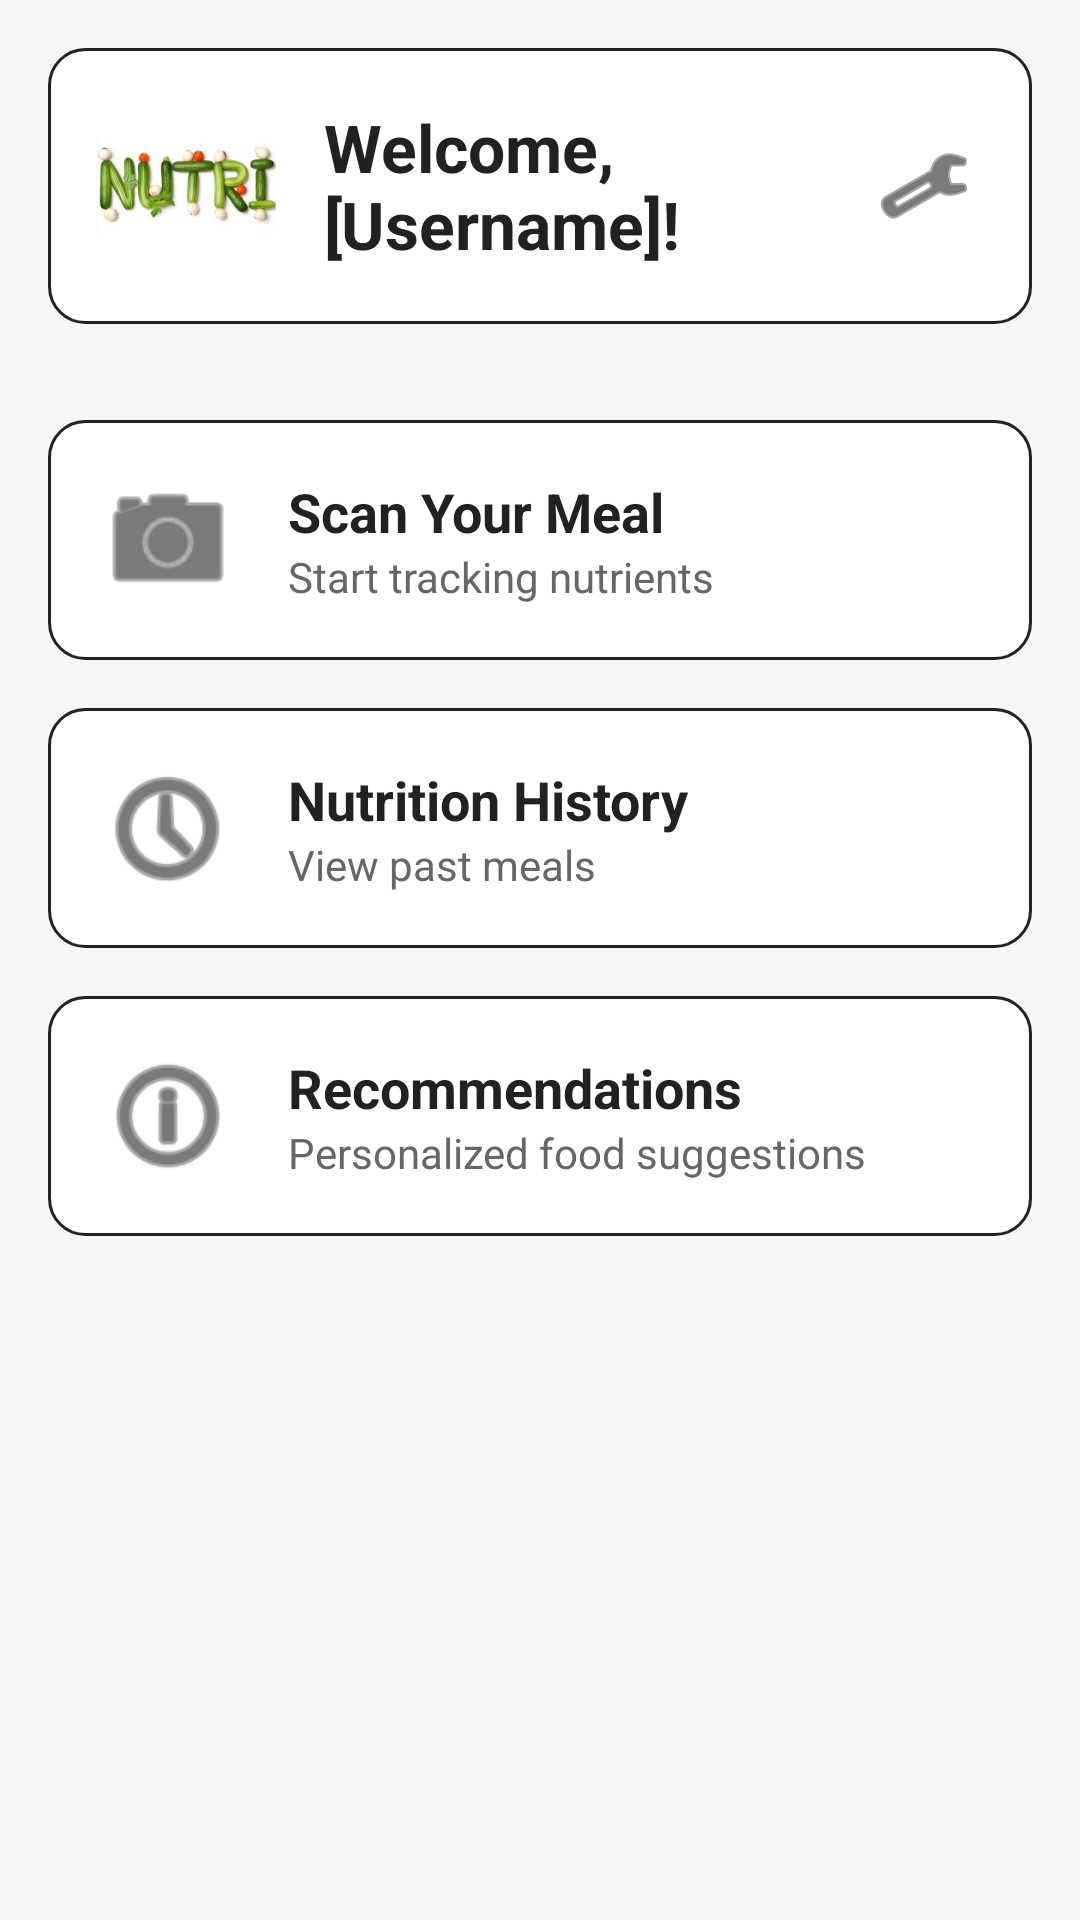

Named icons in this screenshot (1080 x 1920) and their bounding boxes, bbox=[x1, y1, x2, y2]:
camera: bbox=[112, 493, 224, 582]
info details: bbox=[116, 1064, 220, 1168]
recent history: bbox=[115, 777, 219, 881]
